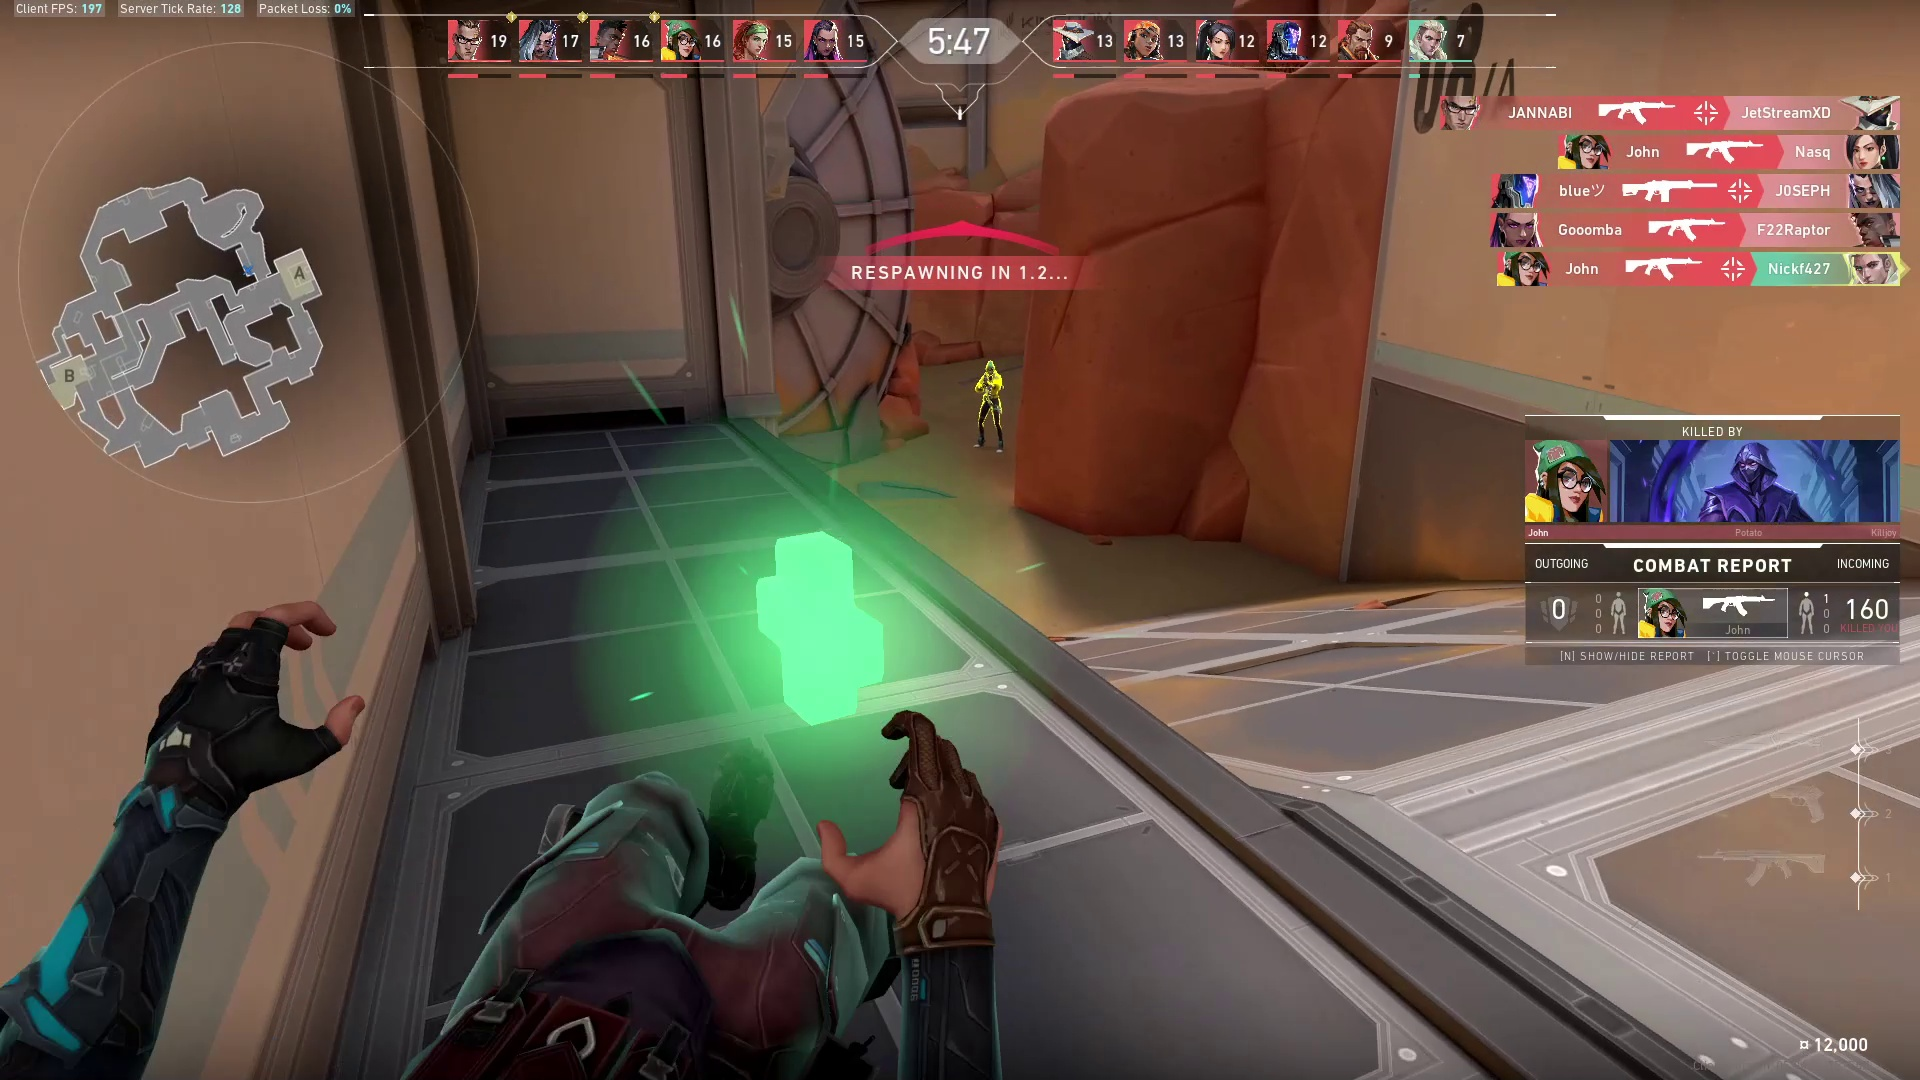enemy_body: (973, 375, 1007, 456)
enemy_head: (982, 357, 998, 375)
